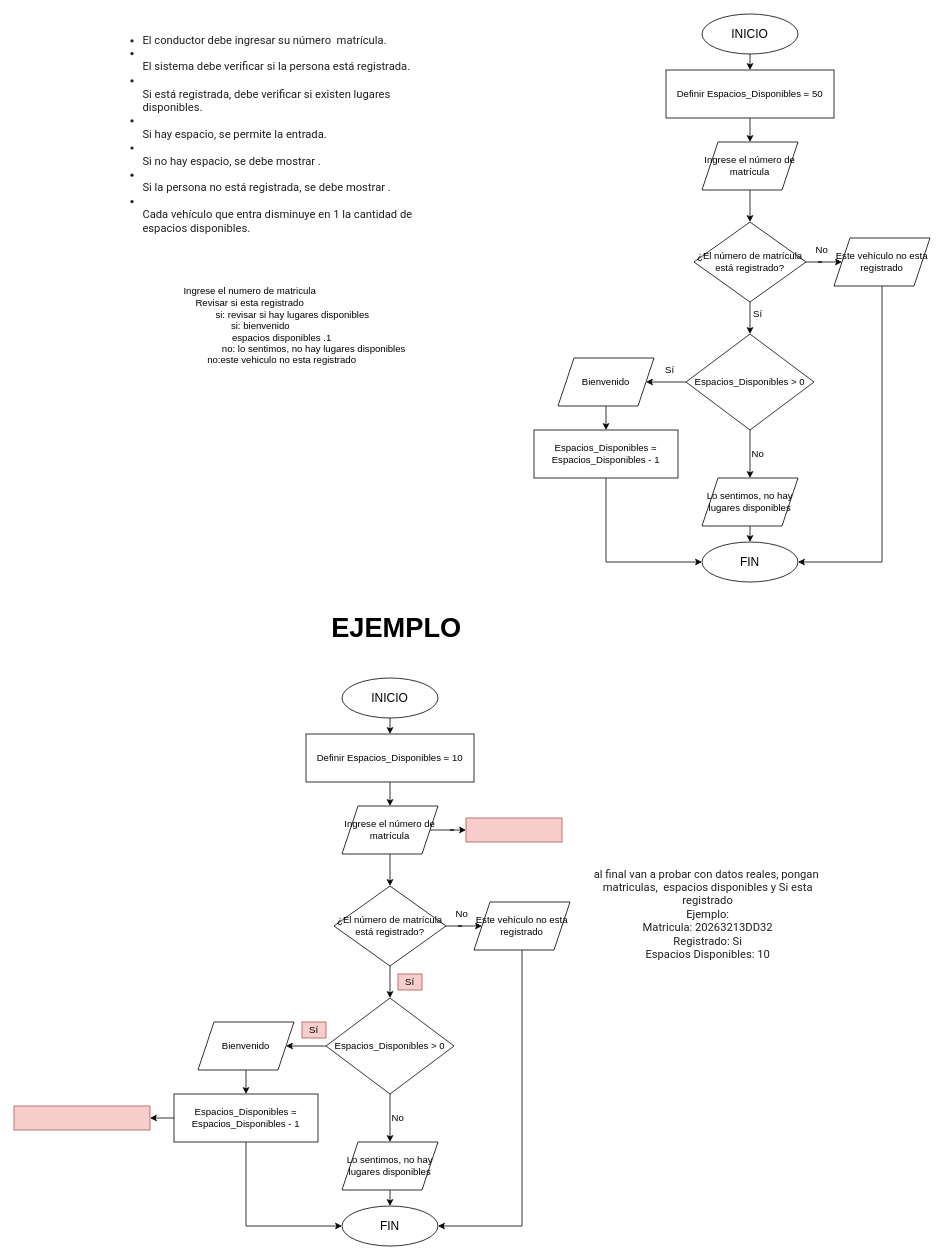
This 944x1260 diagram has some shape labels left out. Here are the shapes that lost their labels. From the top down, the centre of each, then its label:
At point 513,829: "20263213DD32".
At point 81,1117: "Espacios_Disponibles = 9".
